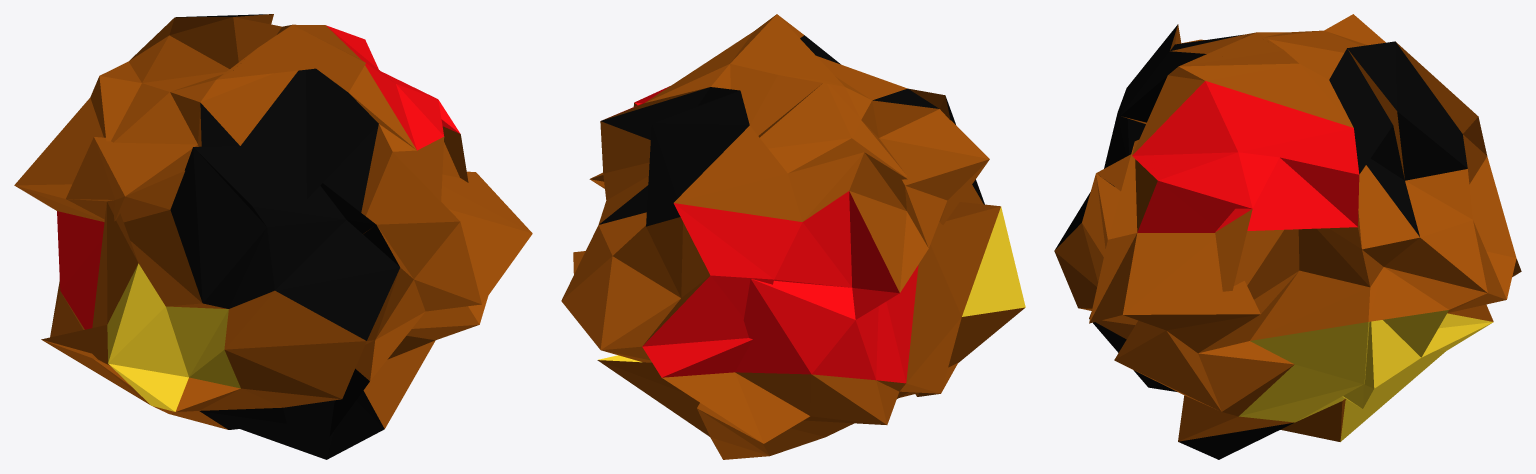
File: Meteor_1 (1).fbx
3 renders of one model, left to right at view 1: azimuth 30°, elevation 25°; view 2: azimuth 150°, elevation 25°; view 3: azimuth 270°, elevation 25°, orthographic. The views are drawn at different scales.
Visible parts, largest first — view 1: Icosphere.001; view 2: Icosphere.001; view 3: Icosphere.001.
Boxes of the visible parts, x1=… form: Icosphere.001: x1=14, y1=14, x2=532, y2=459; Icosphere.001: x1=561, y1=14, x2=1025, y2=459; Icosphere.001: x1=1054, y1=14, x2=1521, y2=459.
Size of the model in its own units: 56.03 by 53.35 by 56.12.
